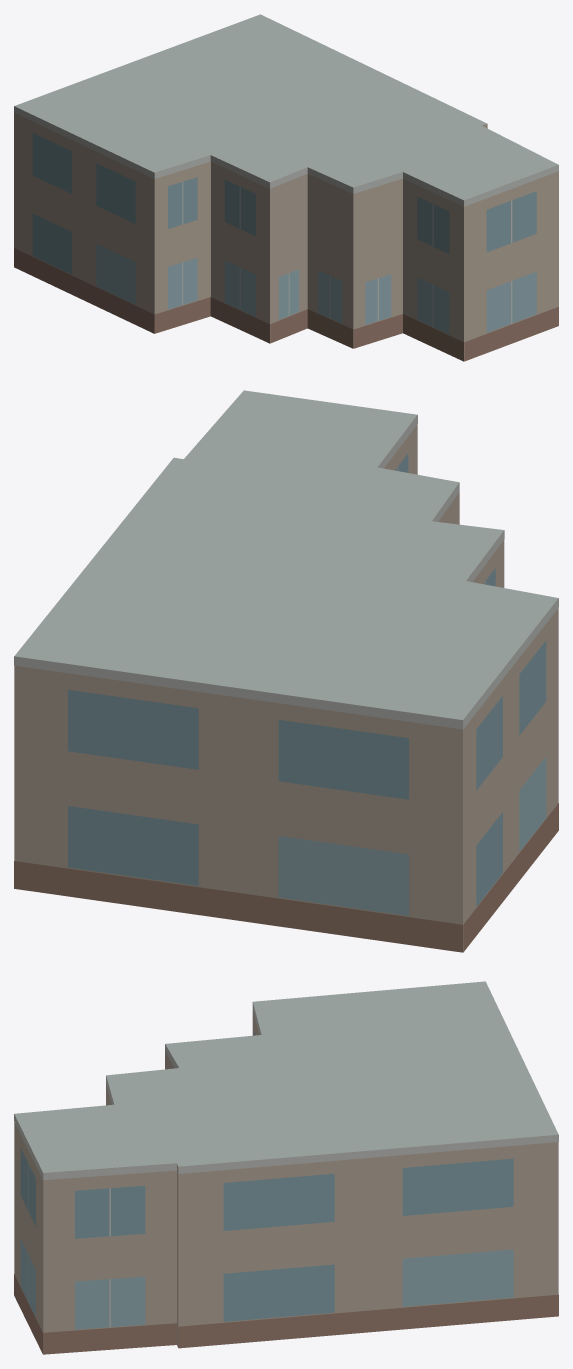
The model's file is survey-upis-32612131.glb.
3 views of the same model, one above another, from view 1: azimuth 30°, elevation 25°; view 2: azimuth 150°, elevation 25°; view 3: azimuth 270°, elevation 25° (orthographic). The views are drawn at different scales.
Visible parts, largest first — view 1: survey-upis-32612131.tmp; view 2: survey-upis-32612131.tmp; view 3: survey-upis-32612131.tmp.
Boxes of the visible parts, x1=… form: survey-upis-32612131.tmp: x1=14, y1=14, x2=558, y2=361; survey-upis-32612131.tmp: x1=14, y1=390, x2=558, y2=952; survey-upis-32612131.tmp: x1=14, y1=981, x2=558, y2=1354.
Bounding box in the file's own units: 13.81 × 6.1 × 16.59.
